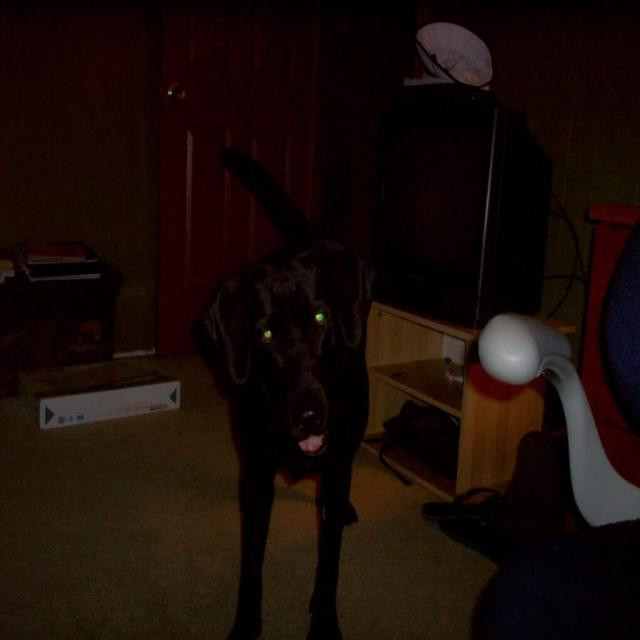Dog: (163, 176, 400, 607)
